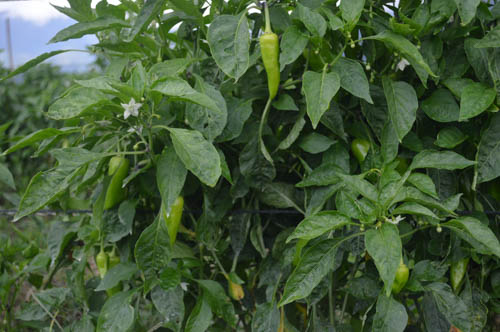ChiliPepper: (261, 34, 282, 96), (106, 160, 129, 209), (161, 199, 185, 245)
